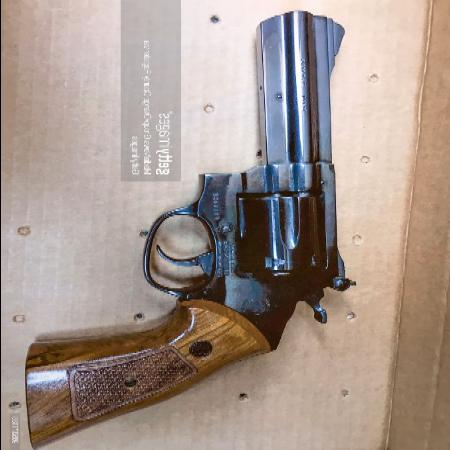Pistol: (27, 16, 346, 448)
